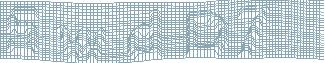5: (5, 5, 39, 57)
7: (236, 5, 271, 59)
D: (185, 10, 229, 59)
d: (125, 8, 163, 63)
w: (54, 24, 105, 63)
